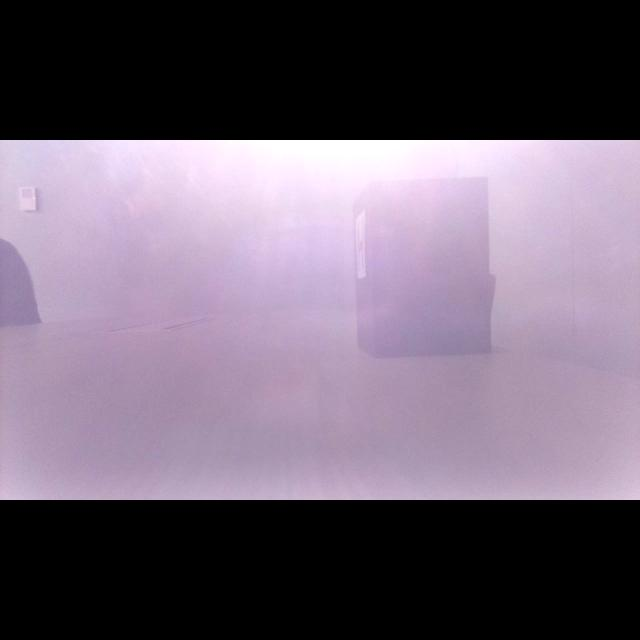H: (358, 218, 364, 271)
